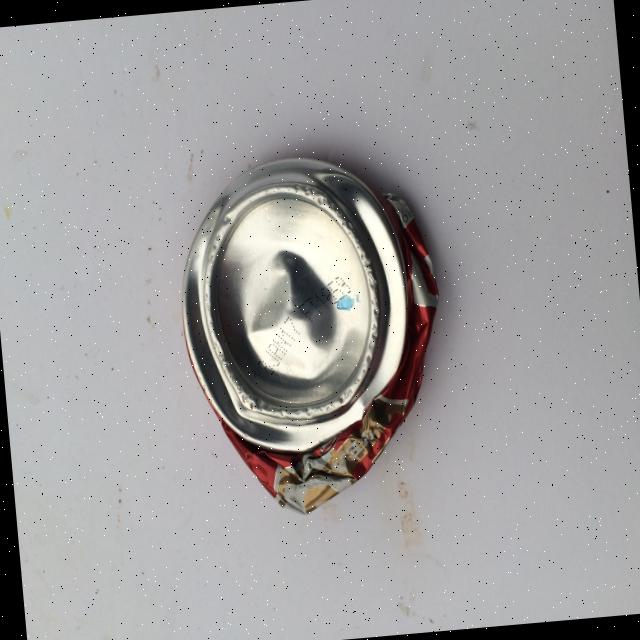metal: (168, 143, 456, 523)
